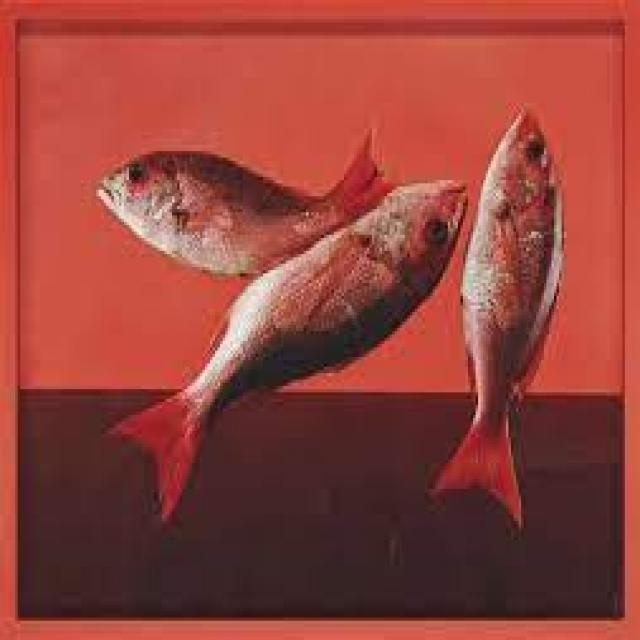northern-red-snapper: (66, 168, 465, 508), (443, 80, 583, 544), (86, 110, 396, 275)
